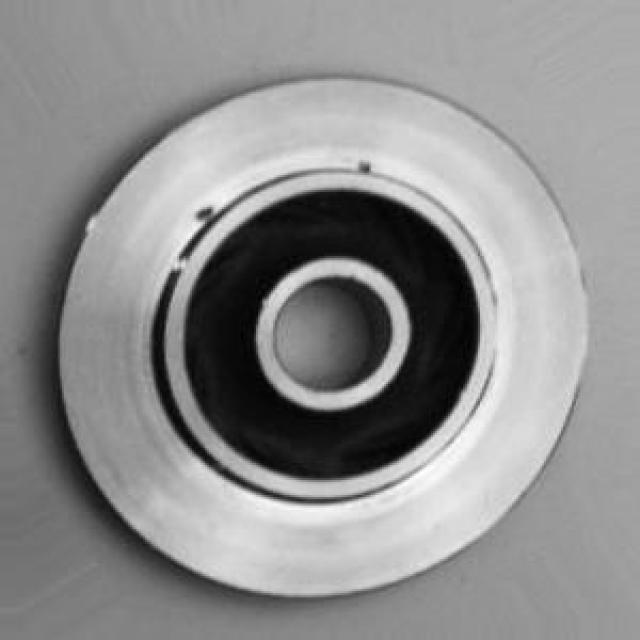Defect: (352, 155, 384, 180)
